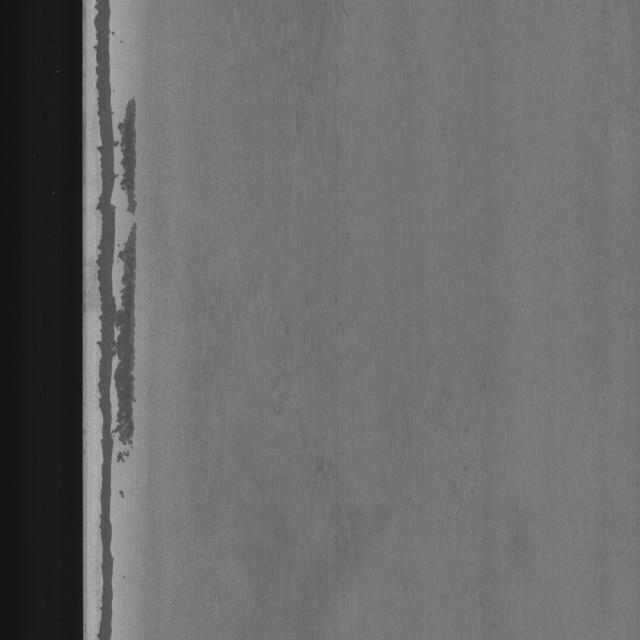welding_line: (90, 4, 154, 639)
